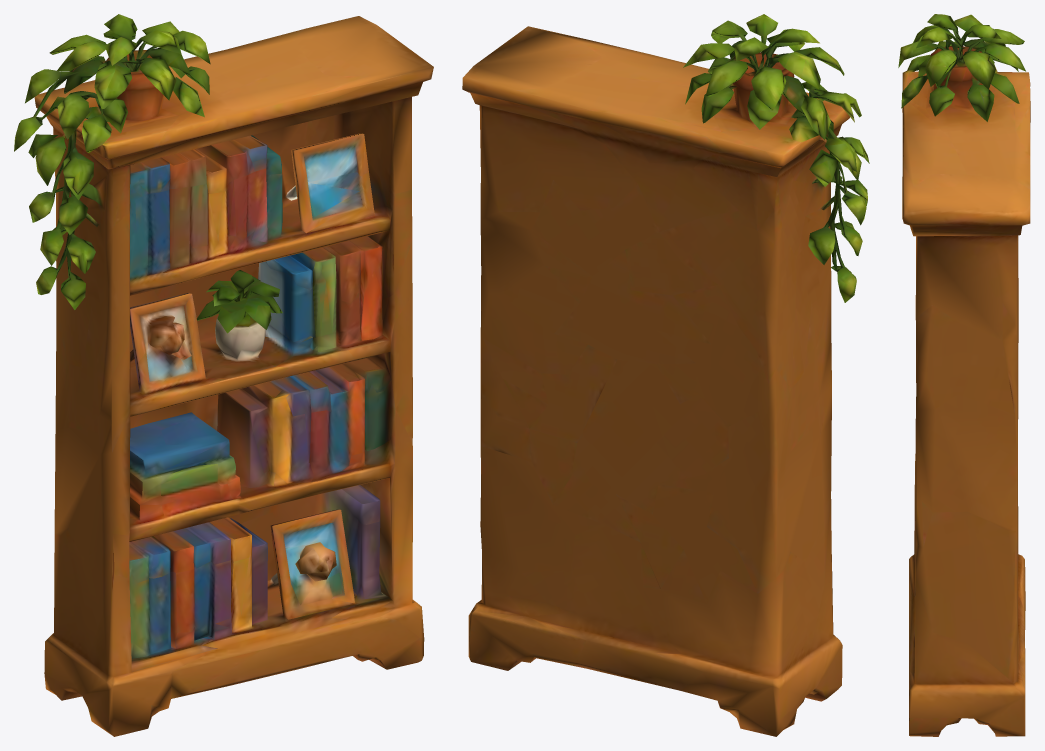
The model's file is bookcase.glb.
3 views of the same model, side by side, from view 1: azimuth 30°, elevation 25°; view 2: azimuth 150°, elevation 25°; view 3: azimuth 270°, elevation 25° (orthographic). The views are drawn at different scales.
Visible parts, largest first — view 1: bookcase-node; view 2: bookcase-node; view 3: bookcase-node.
Part boxes in pixels (x1=…): bookcase-node: x1=14, y1=14, x2=433, y2=736; bookcase-node: x1=462, y1=14, x2=869, y2=736; bookcase-node: x1=898, y1=14, x2=1030, y2=736.
Size of the model in its own units: 0.5795 by 1 by 0.199.
Materials: 1 (1 with a texture image).
